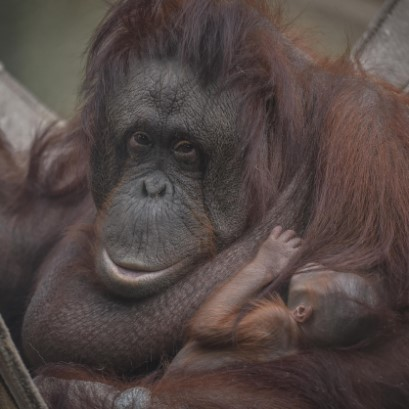Orangutan: (53, 22, 397, 400), (167, 234, 384, 406)
